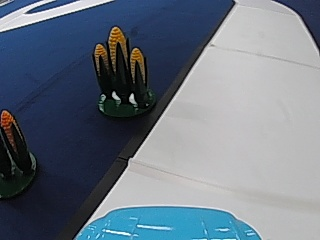corn: (89, 23, 158, 118), (0, 106, 38, 196)
